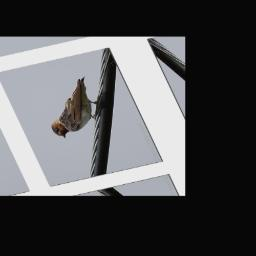Swallow: (30, 74, 113, 141)
